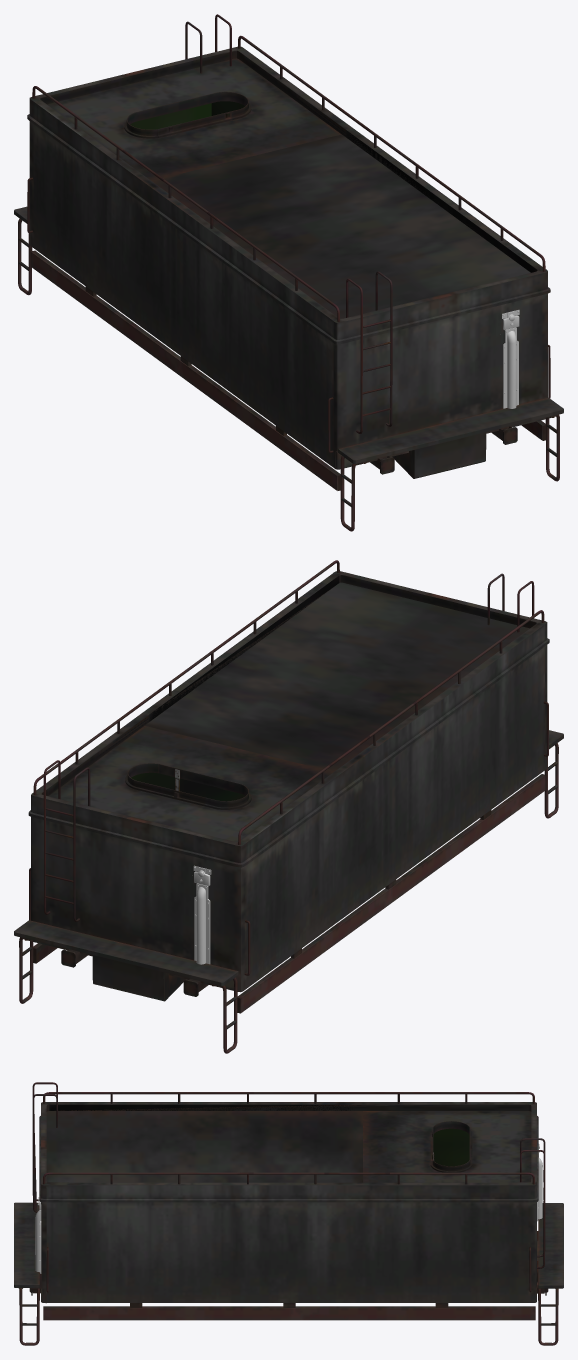
File: AxTender.fbx
The picture shows the model from 3 angles, top to bottom: view 1: azimuth 30°, elevation 25°; view 2: azimuth 150°, elevation 25°; view 3: azimuth 270°, elevation 25°; orthographic projection. The views are drawn at different scales.
Visible parts, largest first — view 1: s282_tender; view 2: s282_tender; view 3: s282_tender.
Boxes of the visible parts, x1,y1,x2,y2 form: s282_tender: (14, 14, 563, 531); s282_tender: (14, 560, 563, 1053); s282_tender: (14, 1082, 563, 1345).
Size of the model in its own units: 313 by 317 by 835.
